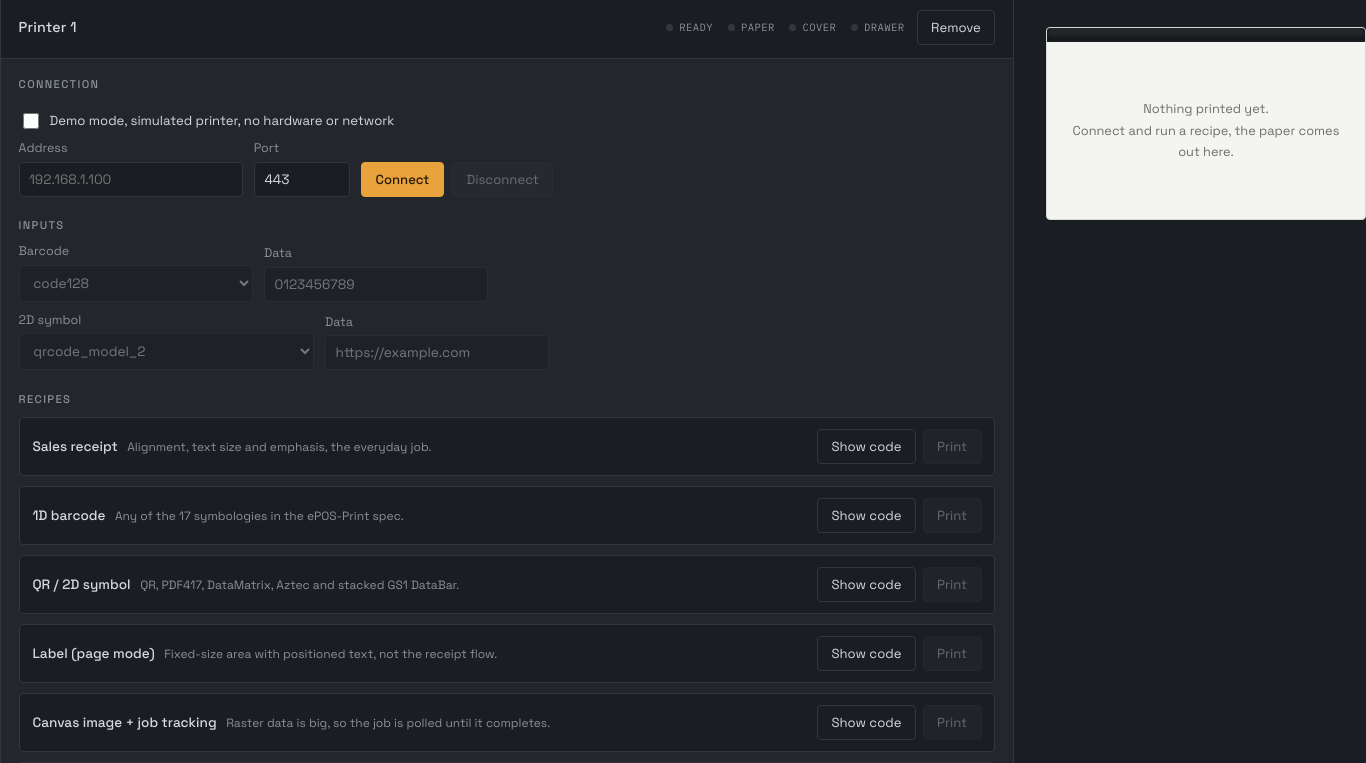
Scenario: demo flow › connects to the simulated printer and enables the recipes
This screenshot has width=1366, height=763.
Step 1. Click the checkbox labelled "Demo mode, simulated printer, no hardware or network" → (31,121), box [23, 113, 39, 129]
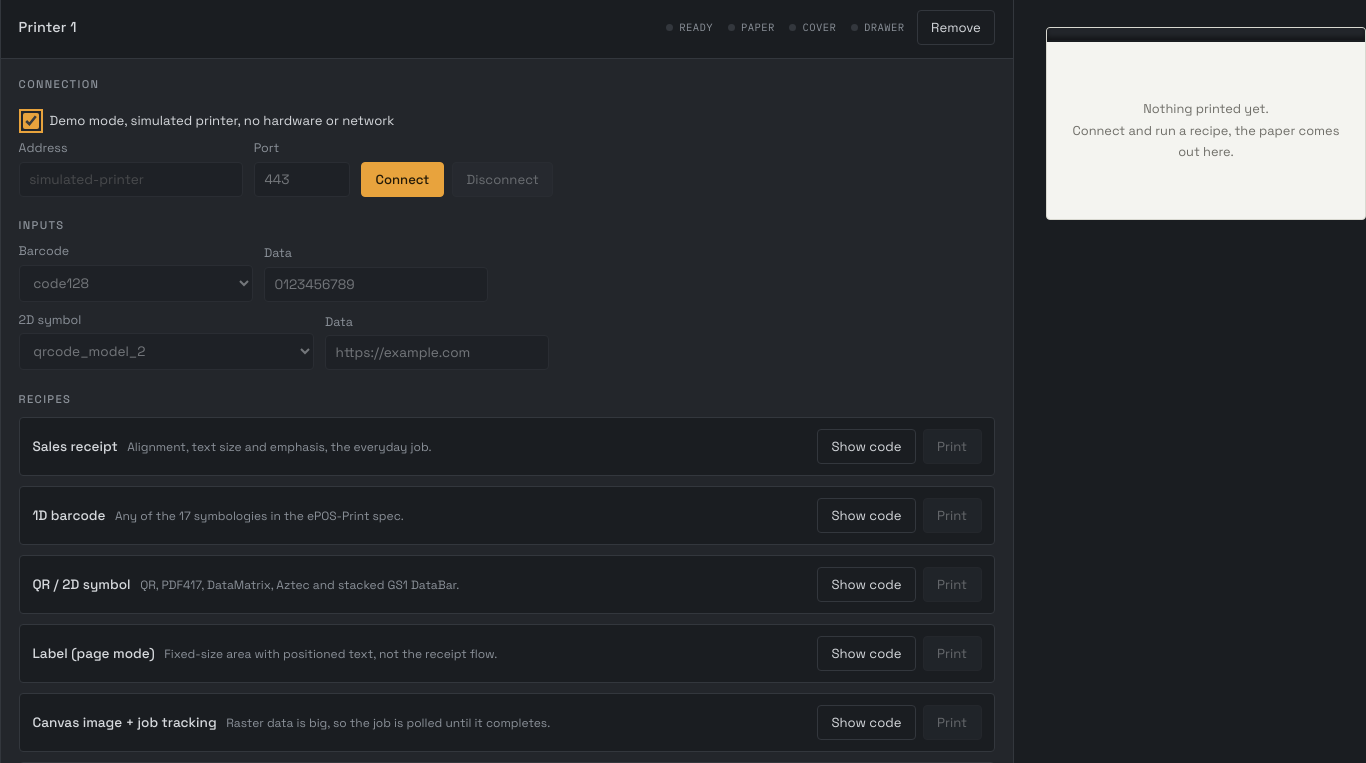
Step 2. Click the button "Connect" → (402,179), box [361, 162, 444, 197]
(page scrolled)
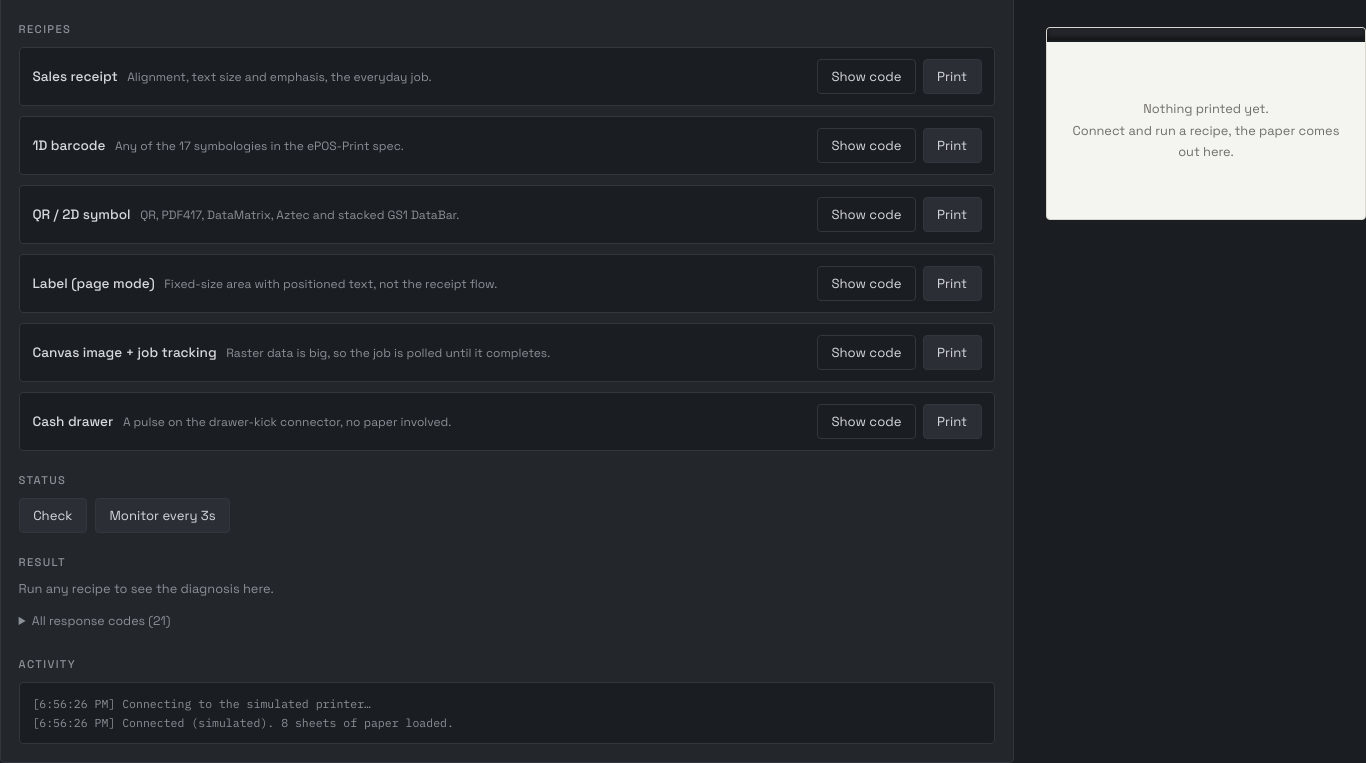
Check: the button "Print" in the row of "Sales receipt" is enabled, box [922, 59, 982, 94]
Check: the text "Connected (simulated)" is shown, box [32, 696, 454, 730]
